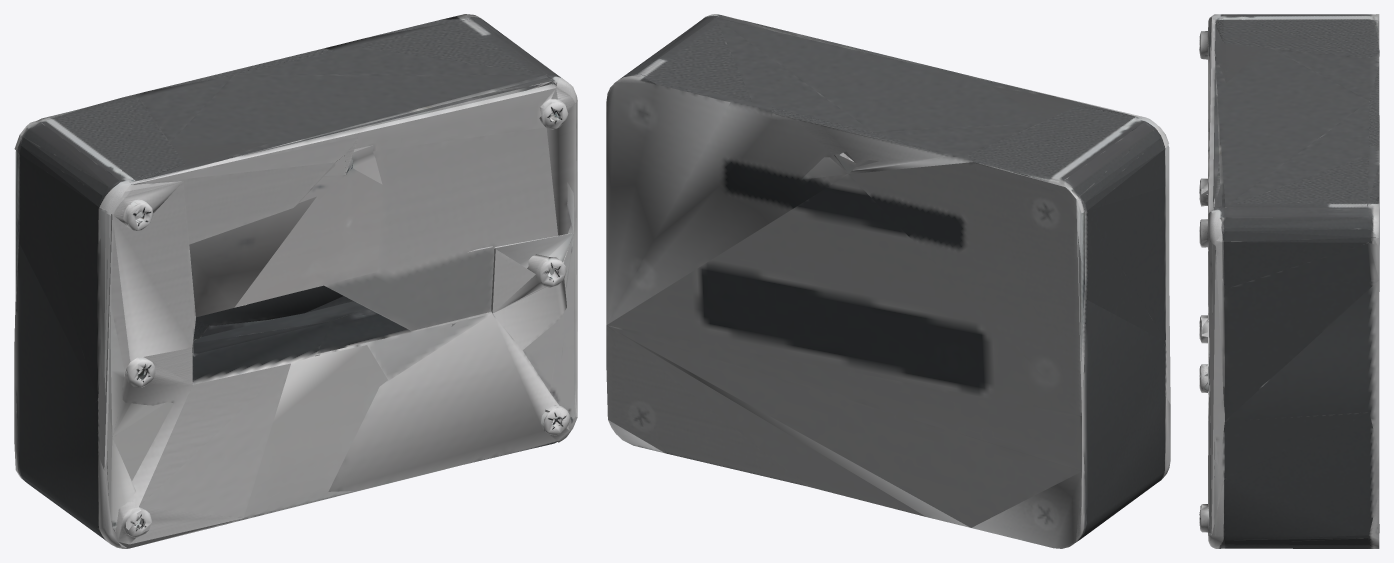
Rendered from LecteurCarte.fbx.
The picture shows the model from 3 angles, left to right: view 1: azimuth 30°, elevation 25°; view 2: azimuth 150°, elevation 25°; view 3: azimuth 270°, elevation 25°; orthographic projection. The views are drawn at different scales.
Parts seen in each view (by area): view 1: Mesh_0; view 2: Mesh_0; view 3: Mesh_0.
Boxes of the visible parts, x1,y1,x2,y2 form: Mesh_0: (14, 14, 577, 548); Mesh_0: (606, 14, 1170, 548); Mesh_0: (1199, 14, 1379, 548).
Size of the model in its own units: 190 by 140 by 67.36.
Materials: 1 (1 with a texture image).
